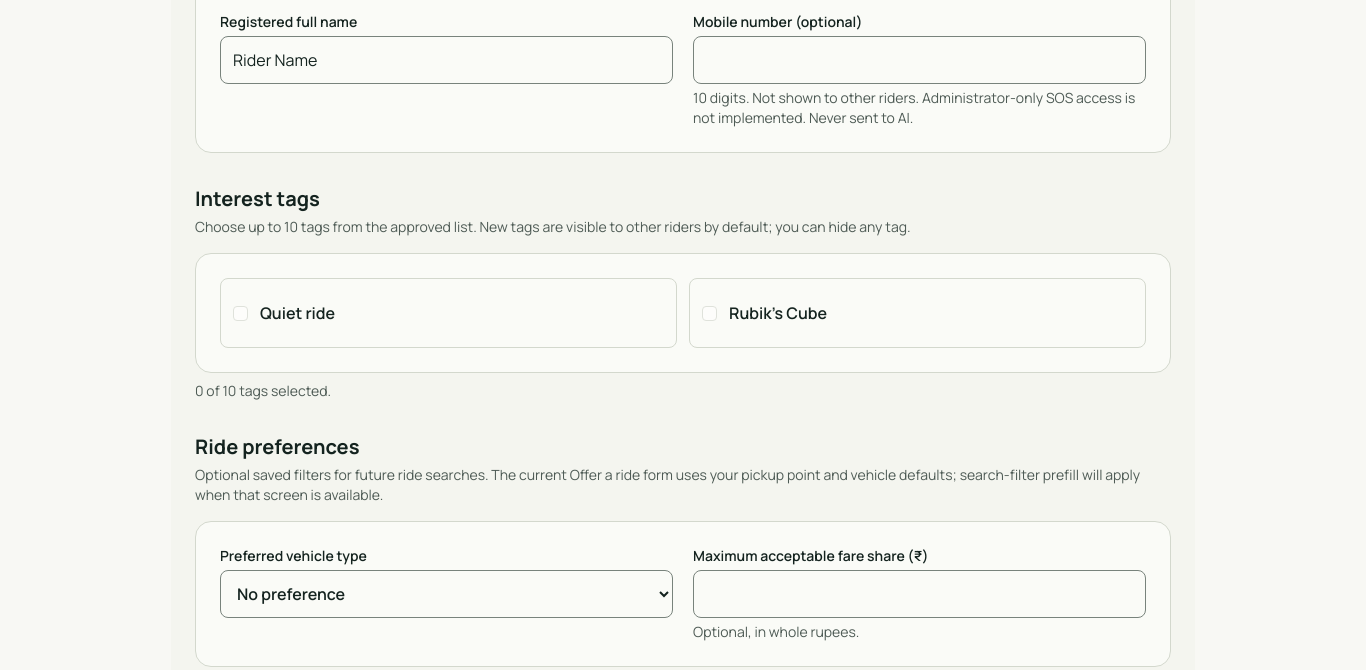
ProfileEditor › selects new tags as visible by default and saves preferences
(page scrolled)
Click the checkbox labelled "Rubik’s Cube" at [710, 313], box [702, 306, 717, 320]
(page scrolled)
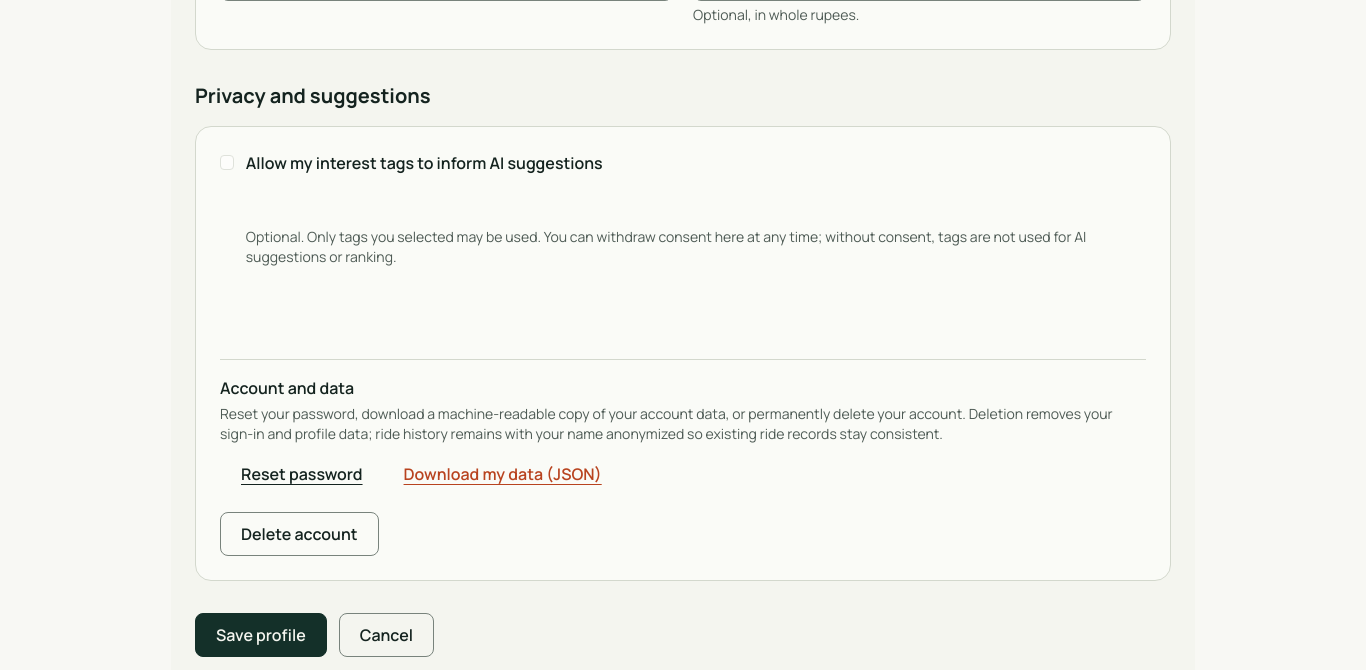
Click the button "Save profile" at [261, 635], box [195, 613, 327, 657]
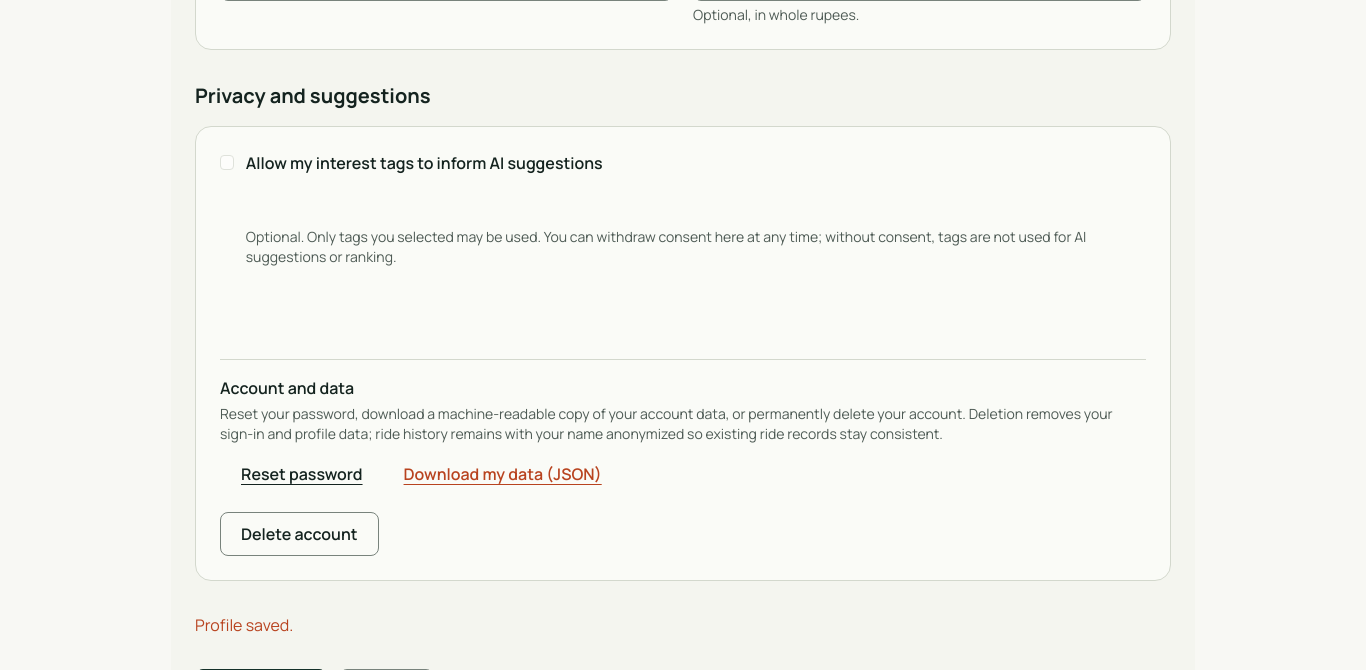
Now the message reads "Profile saved.", box [195, 614, 293, 636]
